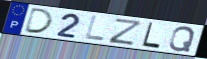2: (54, 11, 84, 40)
D: (22, 7, 55, 35)
L: (83, 15, 106, 42), (140, 22, 161, 50)
Q: (167, 26, 197, 53)
Z: (108, 17, 145, 47)
